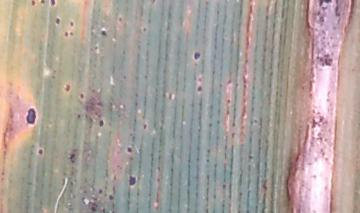tarspot: (22, 104, 40, 127), (97, 25, 111, 40), (125, 174, 139, 187), (259, 178, 271, 193), (190, 50, 203, 62), (123, 143, 137, 154), (66, 151, 78, 163), (138, 23, 150, 35), (34, 145, 46, 156), (61, 81, 73, 92), (72, 111, 84, 122), (140, 120, 150, 133), (54, 15, 64, 27), (224, 95, 234, 107), (105, 193, 118, 202), (202, 146, 215, 155), (116, 15, 126, 26), (224, 75, 233, 87), (220, 181, 230, 191), (95, 186, 104, 197), (62, 29, 71, 40), (230, 120, 239, 131), (248, 151, 255, 165), (97, 117, 105, 129), (200, 205, 212, 213), (76, 91, 86, 100), (89, 203, 98, 213), (266, 69, 275, 79), (207, 119, 215, 130), (196, 84, 203, 95), (195, 75, 204, 83), (68, 19, 77, 27), (205, 157, 213, 165), (50, 1, 57, 9), (30, 1, 37, 8), (40, 1, 47, 6)
